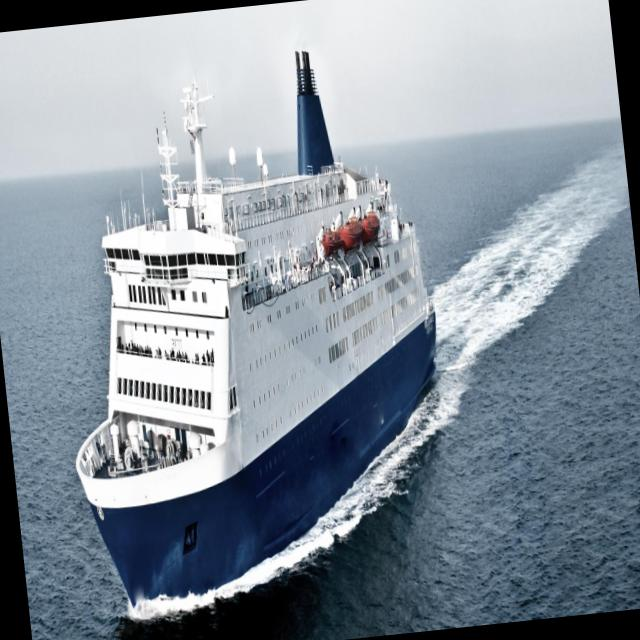boat: (29, 3, 469, 640)
